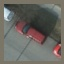car: (14, 16, 48, 45)
